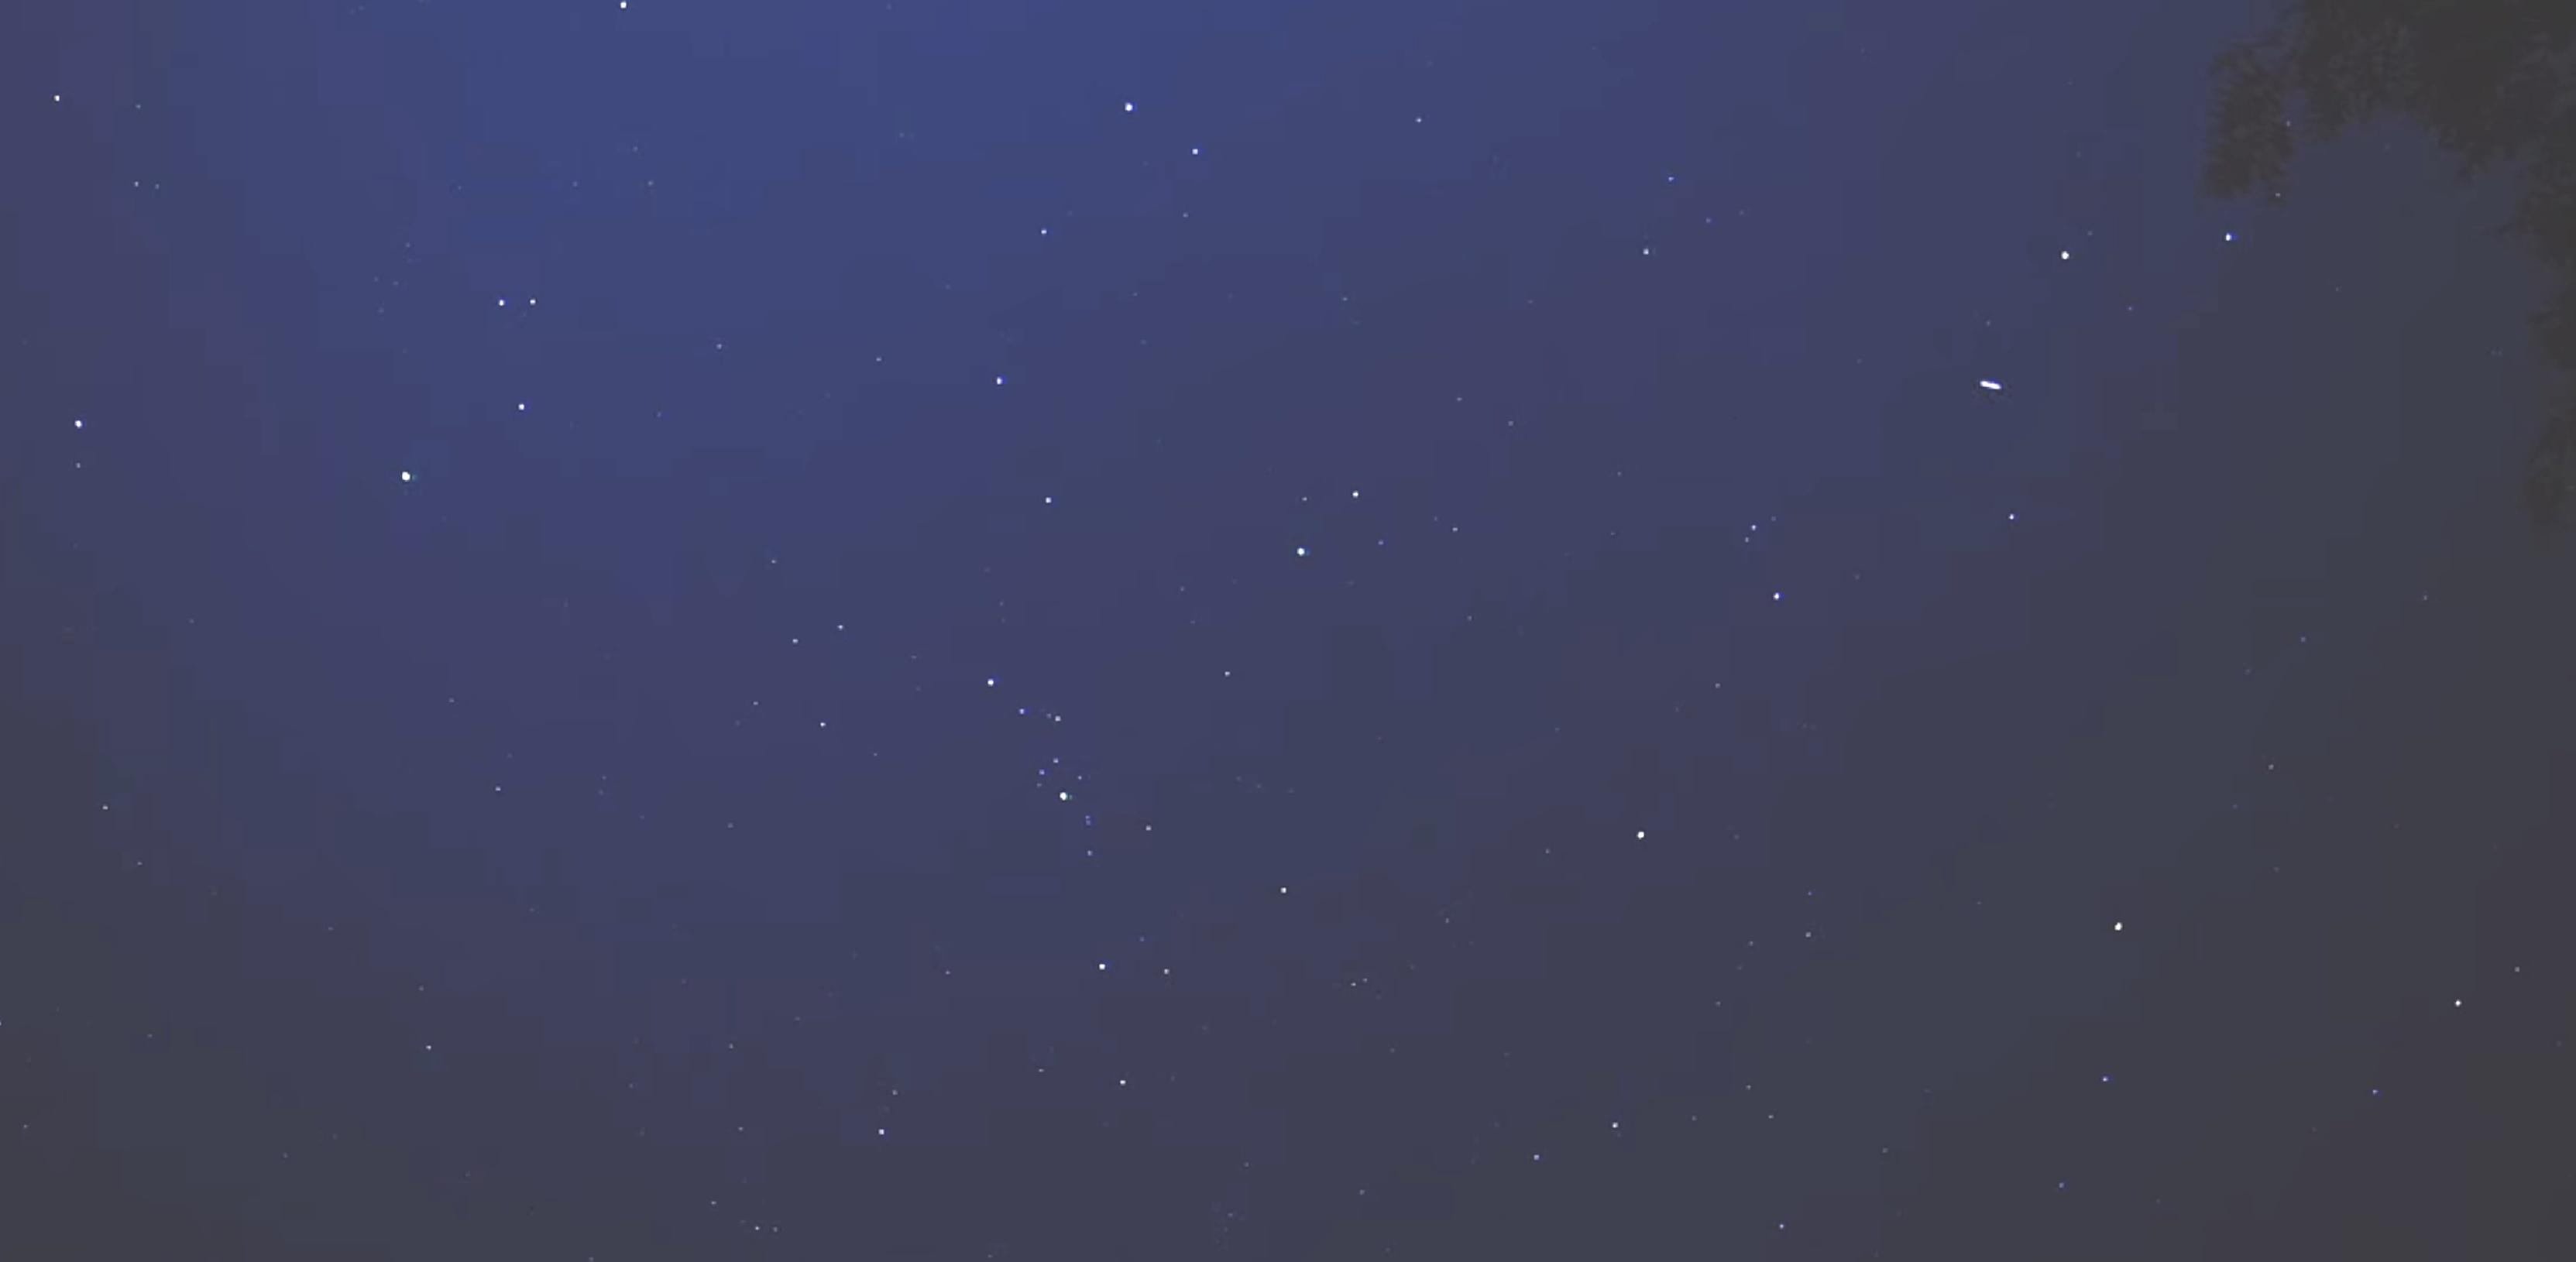meteorite: (1965, 371, 2022, 408)
